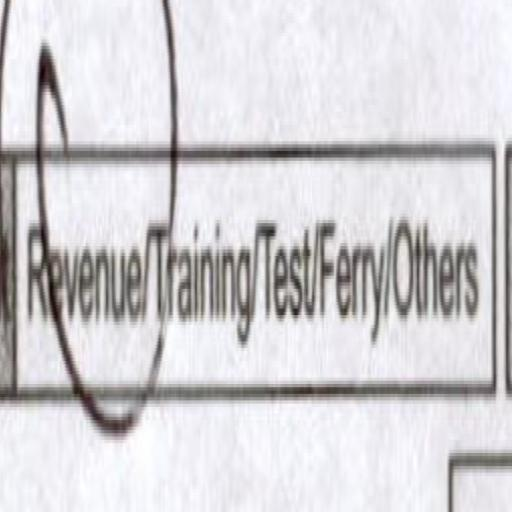check: (23, 77, 147, 467)
